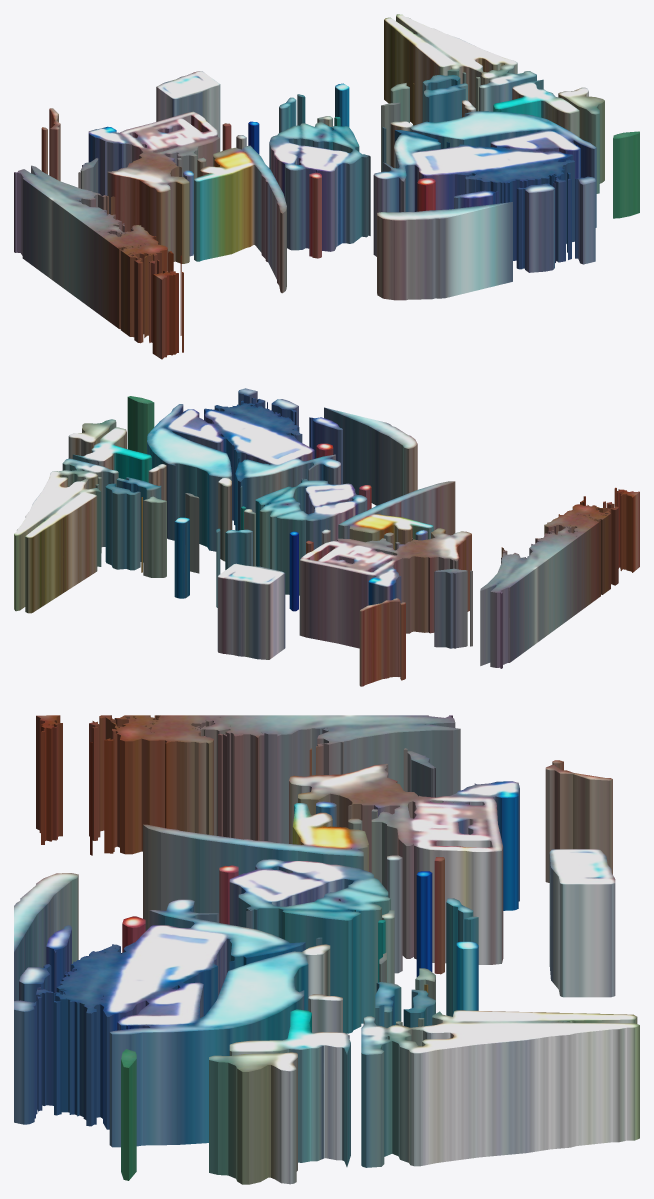
Rendered from Builder20220303231833.gltf.
3 renders of one model, top to bottom at view 1: azimuth 30°, elevation 25°; view 2: azimuth 150°, elevation 25°; view 3: azimuth 270°, elevation 25°, orthographic. The views are drawn at different scales.
Bounding box in the file's own units: 0.1661 × 0.0245 × 0.1232.
Materials: 1 (1 with a texture image).
